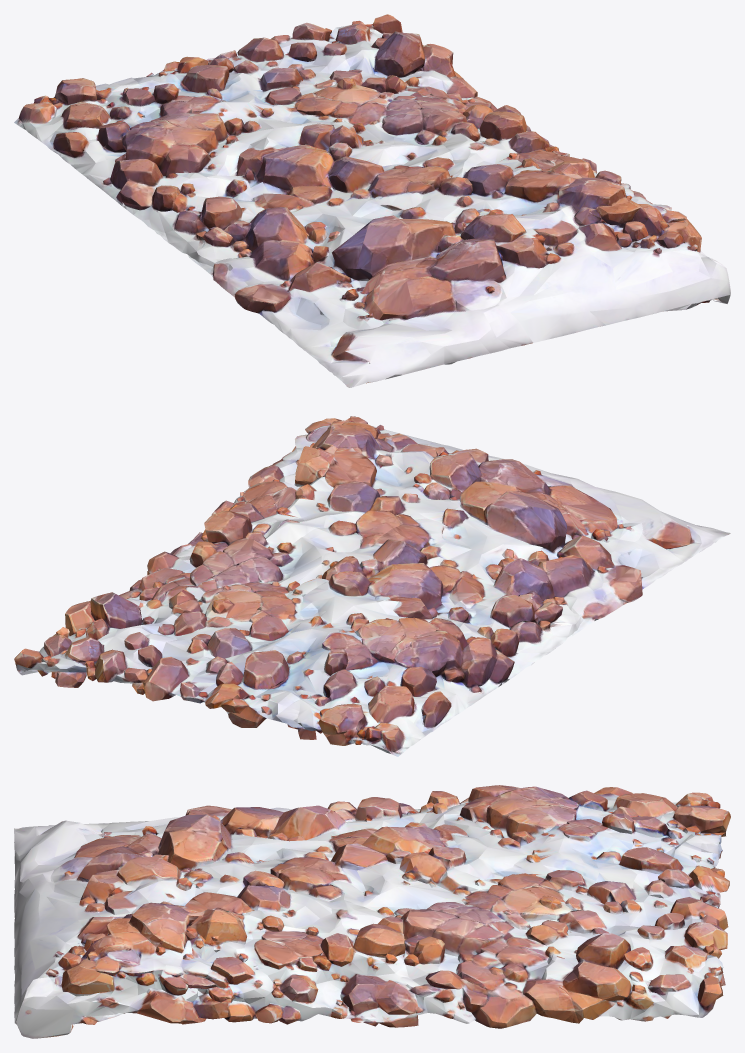
Rendered from suelonevado1.glb.
3 renders of one model, top to bottom at view 1: azimuth 30°, elevation 25°; view 2: azimuth 150°, elevation 25°; view 3: azimuth 270°, elevation 25°, orthographic. The views are drawn at different scales.
Parts seen in each view (by area): view 1: SueloNevado1; view 2: SueloNevado1; view 3: SueloNevado1.
Boxes of the visible parts, x1,y1,x2,y2 form: SueloNevado1: [14, 14, 730, 387]; SueloNevado1: [14, 416, 730, 756]; SueloNevado1: [14, 785, 730, 1038].
Size of the model in its own units: 0.7101 by 0.1562 by 1.06.
Materials: 1 (1 with a texture image).
